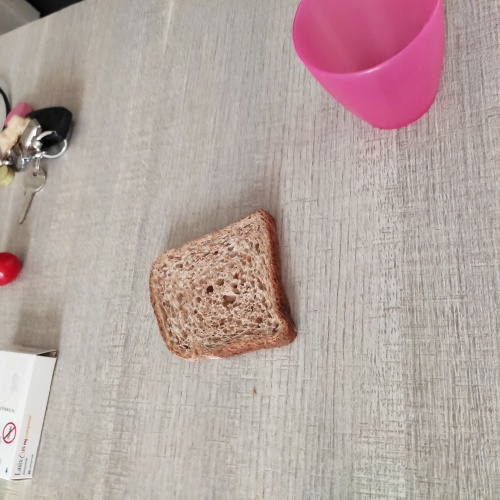pane: (138, 203, 296, 377)
